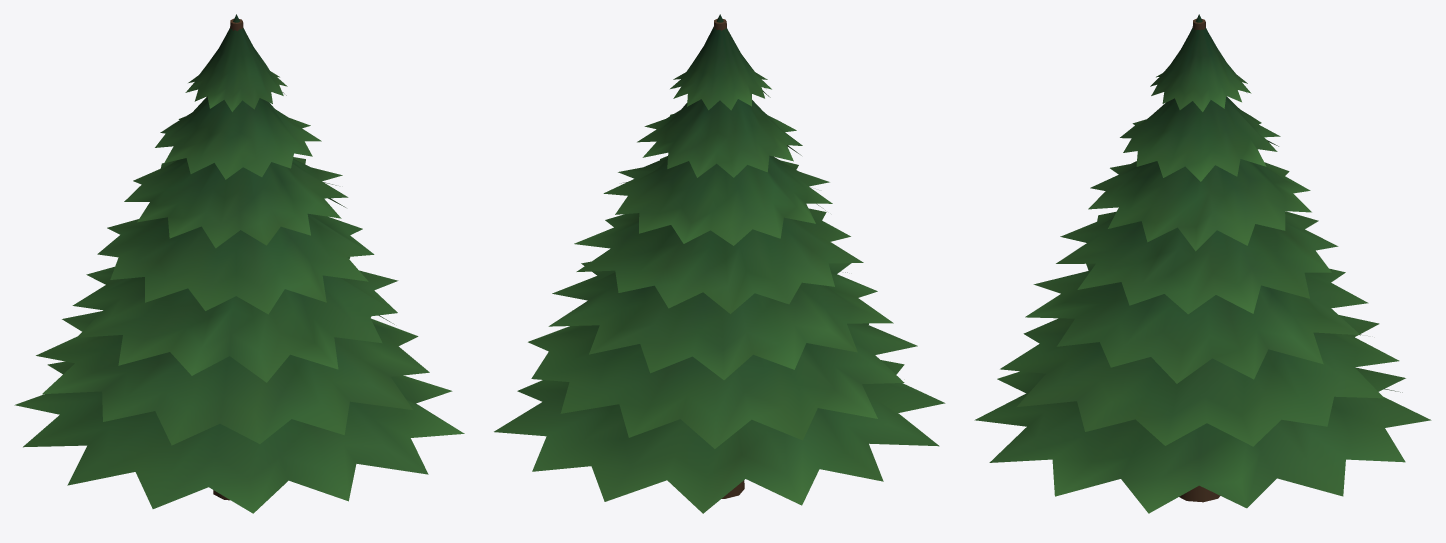
Rendered from tree_pine.glb.
The picture shows the model from 3 angles, left to right: view 1: azimuth 30°, elevation 25°; view 2: azimuth 150°, elevation 25°; view 3: azimuth 270°, elevation 25°; orthographic projection.
Parts seen in each view (by area): view 1: tree_pine; view 2: tree_pine; view 3: tree_pine.
Boxes of the visible parts, box(x1,y1,x2,y2) form: tree_pine: box(14, 14, 464, 513); tree_pine: box(494, 14, 945, 513); tree_pine: box(974, 14, 1431, 513).
Bounding box in the file's own units: 8.96 × 10.58 × 9.18.
